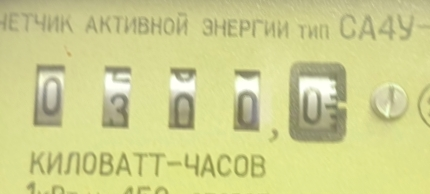0: (37, 71, 61, 118), (233, 86, 258, 130), (297, 83, 322, 126), (169, 88, 193, 129)
3: (104, 89, 128, 128)
screen: (11, 40, 365, 158)
